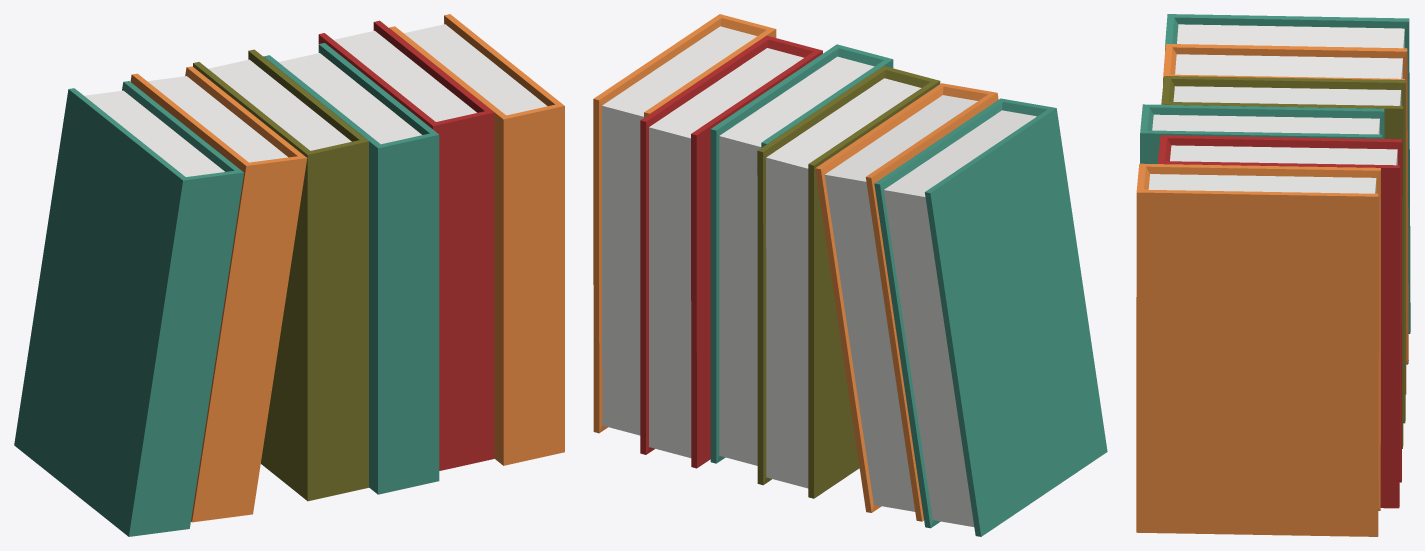
Rendered from Books_8.fbx.
The picture shows the model from 3 angles, left to right: view 1: azimuth 30°, elevation 25°; view 2: azimuth 150°, elevation 25°; view 3: azimuth 270°, elevation 25°; orthographic projection. The views are drawn at different scales.
Parts seen in each view (by area): view 1: Books_8; view 2: Books_8; view 3: Books_8.
Boxes of the visible parts, x1,y1,x2,y2 form: Books_8: [14, 14, 564, 536]; Books_8: [593, 14, 1107, 536]; Books_8: [1136, 14, 1410, 536].
Size of the model in its own units: 51.37 by 29.01 by 40.13.
